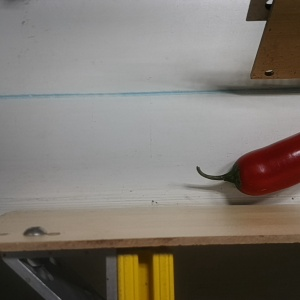Cut Point: (225, 155, 257, 196)
